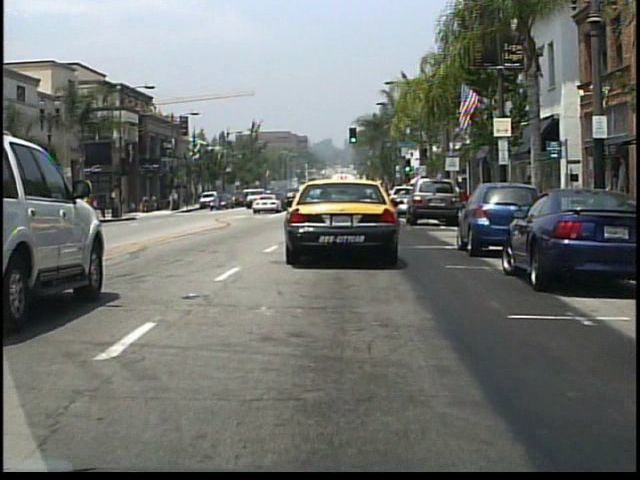person: (217, 187, 227, 212)
